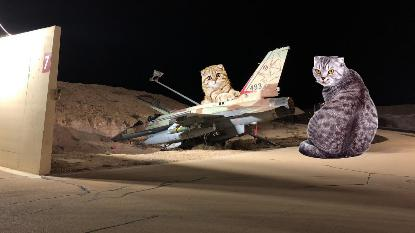F14: (111, 45, 304, 150)
